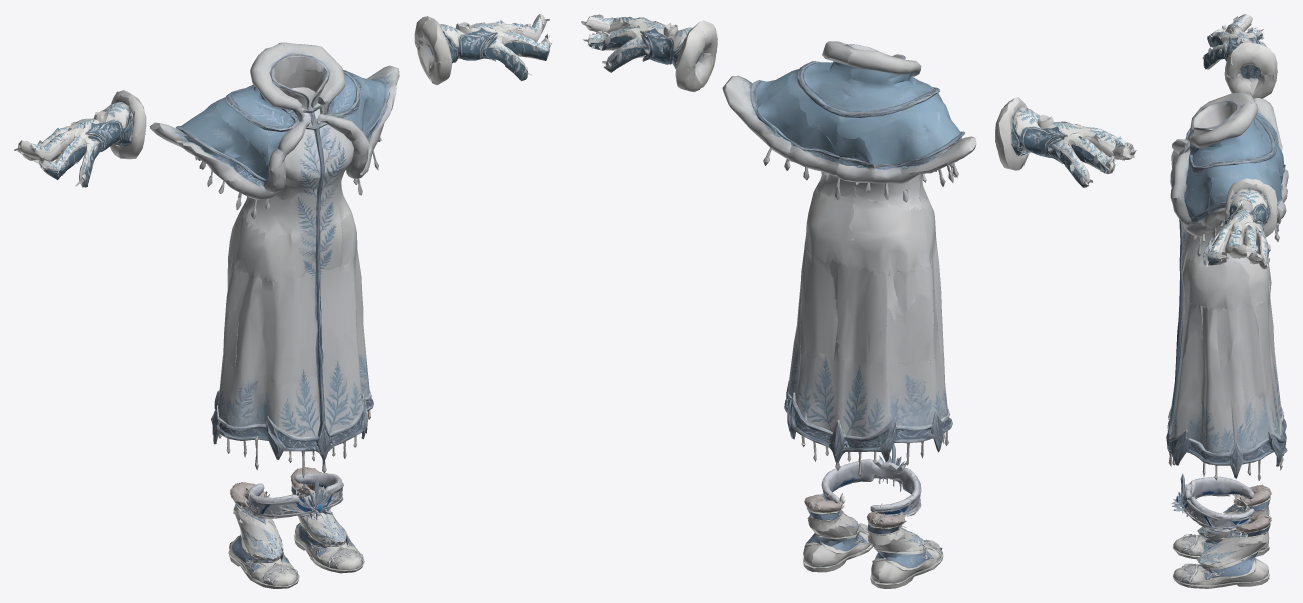
The model's file is ai_mage_glacial.glb.
3 renders of one model, left to right at view 1: azimuth 30°, elevation 25°; view 2: azimuth 150°, elevation 25°; view 3: azimuth 270°, elevation 25°, orthographic. The views are drawn at different scales.
Visible parts, largest first — view 1: robe, gloves, feet, circlet; view 2: robe, gloves, feet, circlet; view 3: robe, gloves, feet, circlet.
Boxes of the visible parts, x1,y1,x2,y2 form: robe: (150,42,399,477); gloves: (14,14,551,187); feet: (228,467,364,588); circlet: (246,472,343,523); robe: (722,41,976,476); gloves: (581,14,1136,187); feet: (803,493,943,588); circlet: (821,443,921,516); robe: (1166,92,1288,480); gloves: (1202,14,1277,269); feet: (1172,484,1271,588); circlet: (1171,473,1254,532).
Size of the model in its own units: 1.8 by 1.63 by 0.3883.
Materials: 4 (4 with a texture image).
